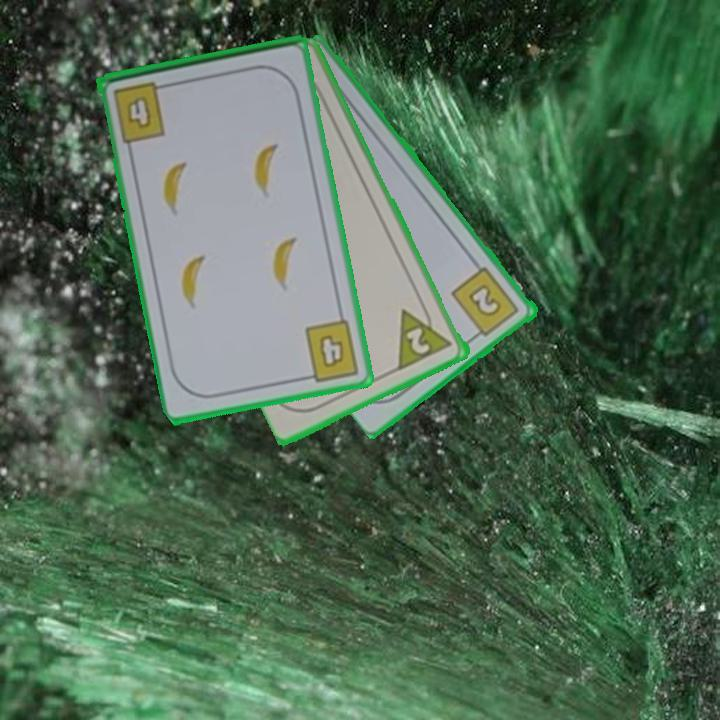2b: (448, 263, 523, 343)
2p: (394, 297, 456, 373)
4b: (299, 316, 363, 384), (109, 78, 173, 146)
